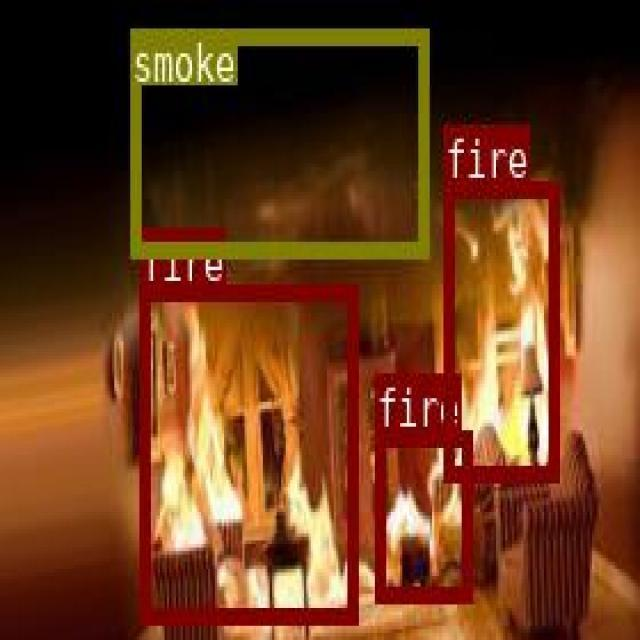fire: (139, 283, 355, 620), (443, 180, 557, 477), (373, 429, 469, 598)
smoke: (130, 28, 425, 253)
